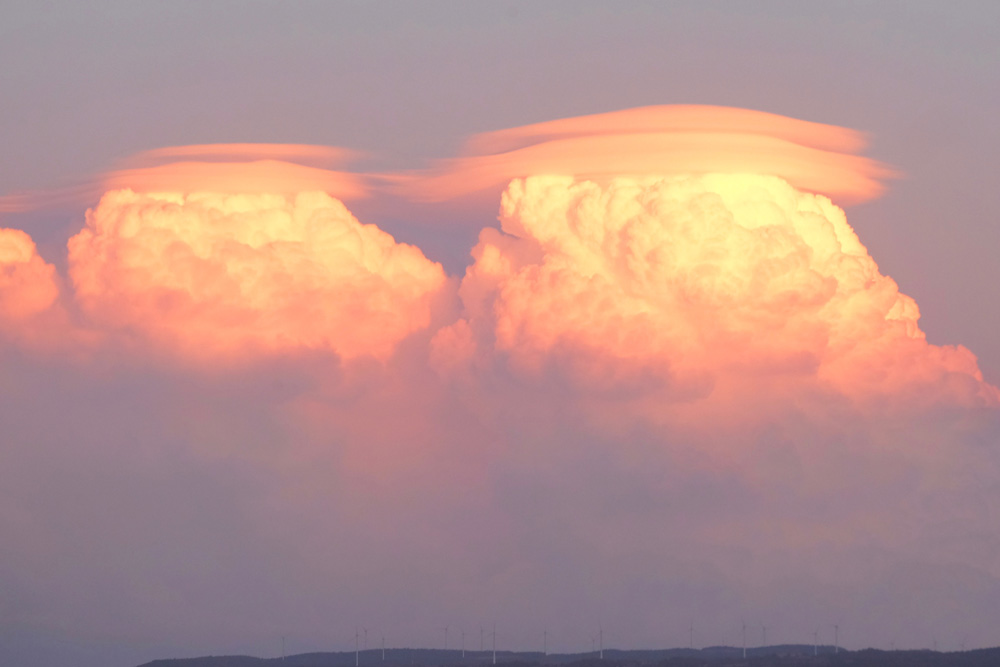Cumulus: (481, 74, 970, 536), (56, 100, 453, 510)
